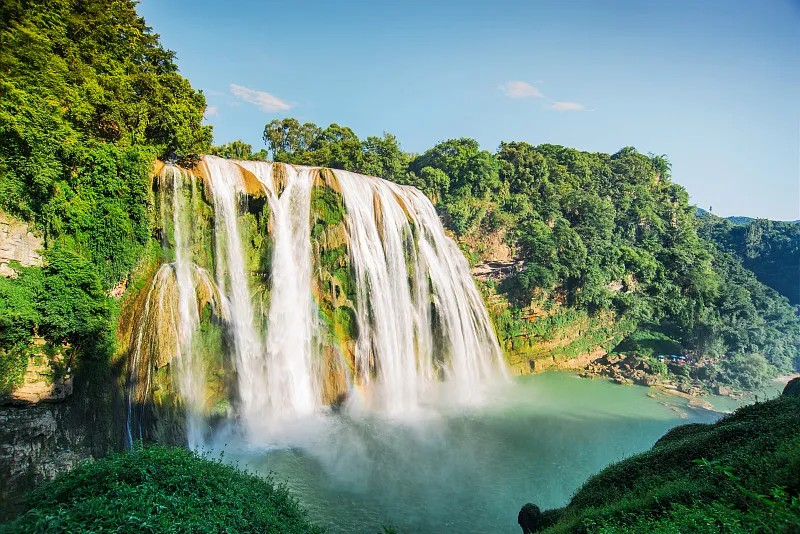Huangguoshu: (162, 155, 508, 427)
